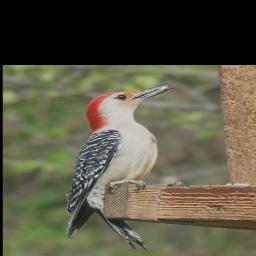Woodpecker: (66, 83, 176, 253)
